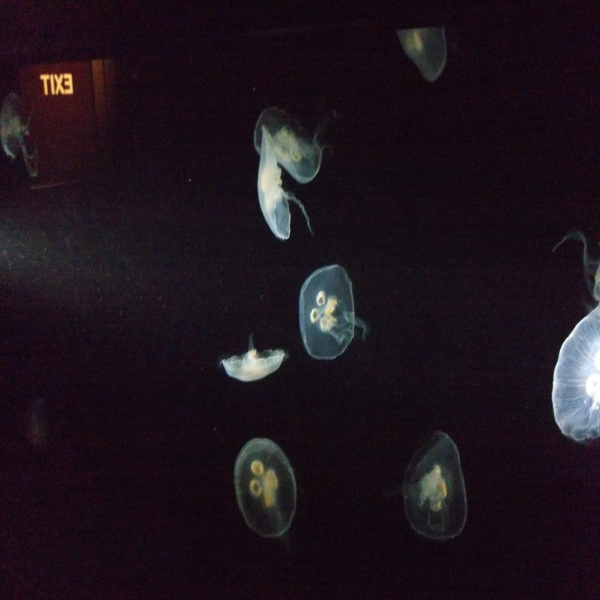Jellyfish: (546, 232, 599, 444), (296, 261, 367, 362), (254, 126, 310, 244), (403, 431, 465, 537), (251, 101, 325, 184), (236, 436, 294, 533), (394, 26, 446, 83), (223, 340, 285, 377)
